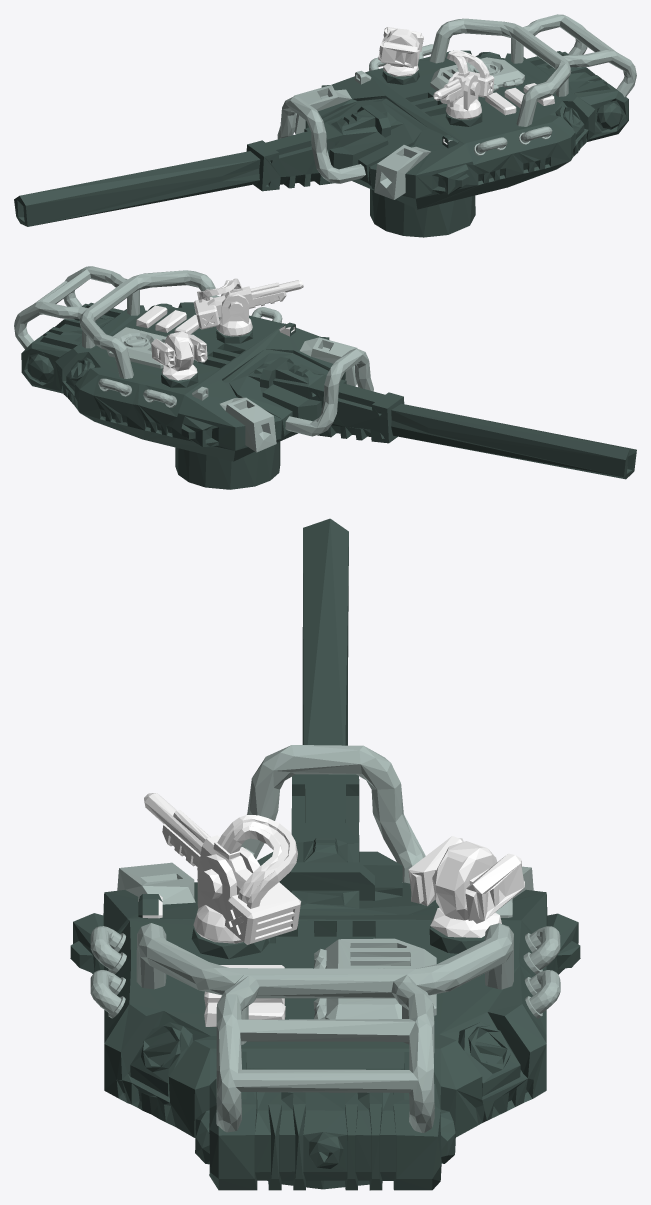
The model's file is tank_turret.obj.
The picture shows the model from 3 angles, top to bottom: view 1: azimuth 30°, elevation 25°; view 2: azimuth 150°, elevation 25°; view 3: azimuth 270°, elevation 25°; orthographic projection. The views are drawn at different scales.
Visible parts, largest first — view 1: main_battle_tank.035; view 2: main_battle_tank.035; view 3: main_battle_tank.035.
Boxes of the visible parts, bbox=[...] form: main_battle_tank.035: bbox=[14, 14, 636, 237]; main_battle_tank.035: bbox=[14, 266, 636, 489]; main_battle_tank.035: bbox=[70, 518, 580, 1190].
Size of the model in its own units: 32.51 by 8.95 by 12.12.
2 materials, 1 textured.
